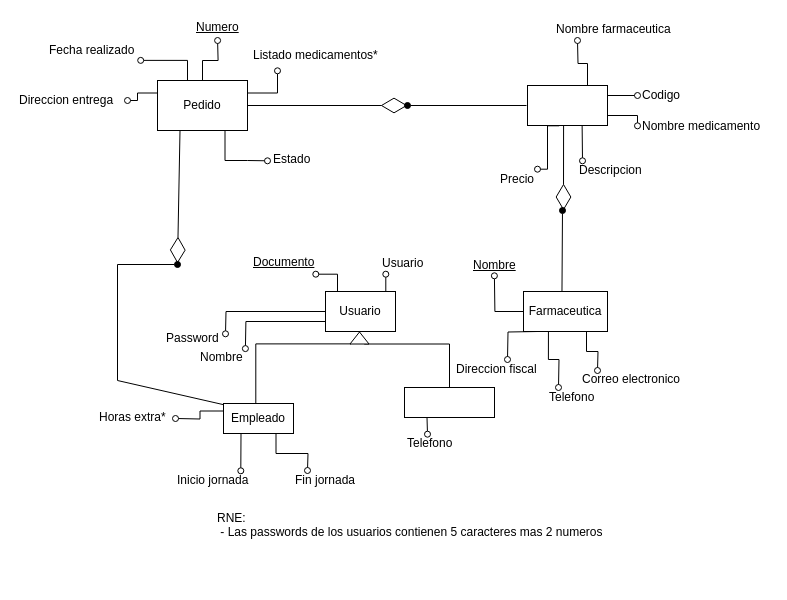
The diagram is 787 pixels wide and 600 high, and some of its shapes have lost their labels. The shapes that lost their labels are listed below. From the top down, each one's box as (x1, y1, x2, y2) in pixels, then its label:
(526, 84, 608, 126): Medicamento
(404, 386, 494, 418): Encargado
